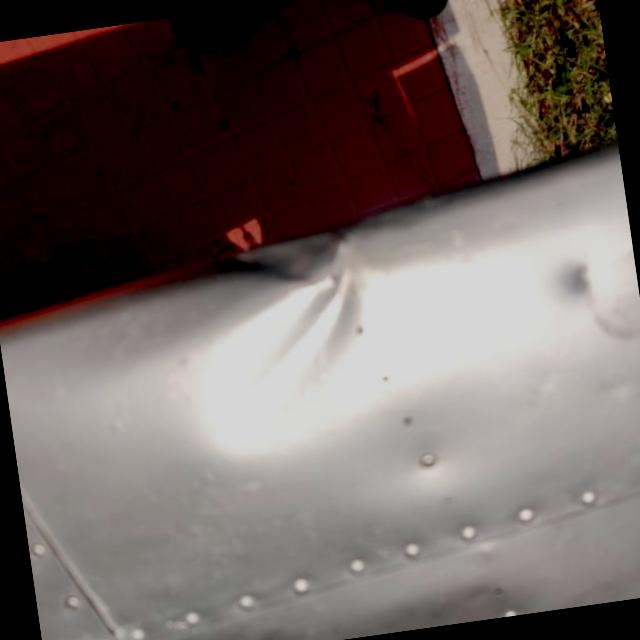dent: (172, 206, 414, 437), (512, 218, 636, 346)
